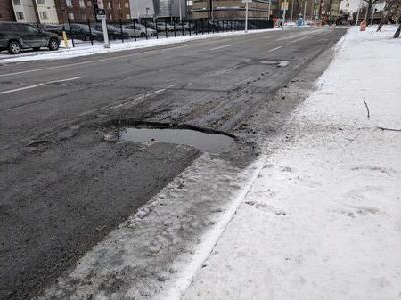pothole: (100, 118, 239, 151)
